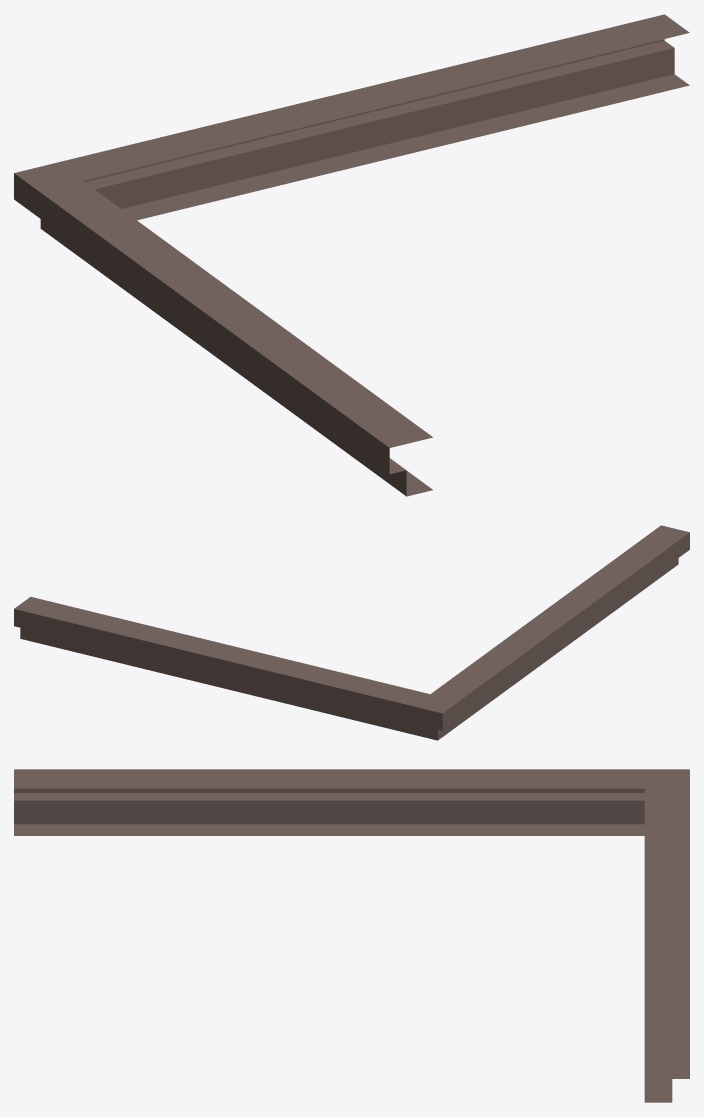
File: Building_carnise_02.fbx
3 renders of one model, top to bottom at view 1: azimuth 30°, elevation 25°; view 2: azimuth 150°, elevation 25°; view 3: azimuth 270°, elevation 25°, orthographic. The views are drawn at different scales.
Parts seen in each view (by area): view 1: Building_carnise_02; view 2: Building_carnise_02; view 3: Building_carnise_02.
Part boxes in pixels (x1,y1,x2,y2): Building_carnise_02: (14, 14, 689, 496); Building_carnise_02: (14, 525, 689, 740); Building_carnise_02: (14, 769, 689, 1102).
Bounding box in the file's own units: 3.22 × 0.2485 × 3.22.
